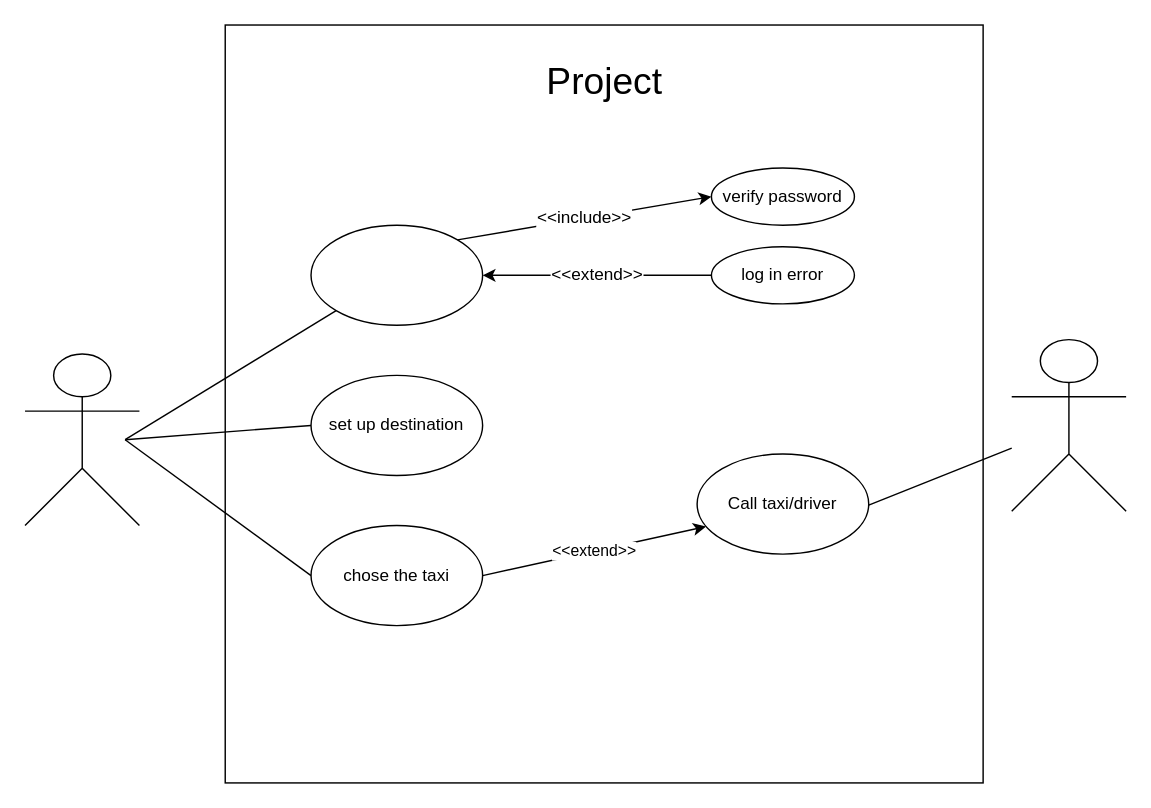
Image size: 1151x808. Some labels were removed from this diagram. The shapes that lost their labels are listed below. From the top down, each one's centre as x and y in pixels, then its label:
At pixel 396 274: "Log In".
At pixel 81 439: "Customer".
At pixel 1068 424: "Admin".
